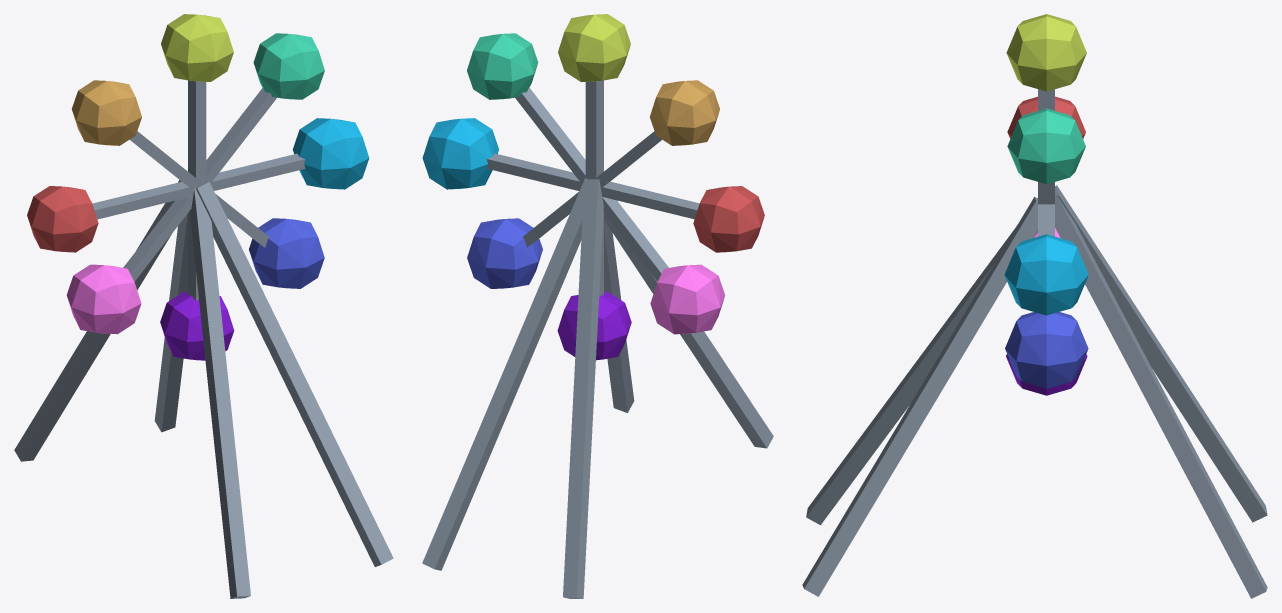
File: wheel.obj
3 renders of one model, left to right at view 1: azimuth 30°, elevation 25°; view 2: azimuth 150°, elevation 25°; view 3: azimuth 270°, elevation 25°, orthographic. The views are drawn at different scales.
Parts seen in each view (by area): view 1: 立方体.016; view 2: 立方体.016; view 3: 立方体.016.
Boxes of the visible parts, x1=… form: 立方体.016: x1=14, y1=14, x2=393, y2=598; 立方体.016: x1=422, y1=14, x2=773, y2=598; 立方体.016: x1=802, y1=14, x2=1267, y2=598.
Size of the model in its own units: 49.63 by 71.39 by 55.05.
Materials: 1 (1 with a texture image).
